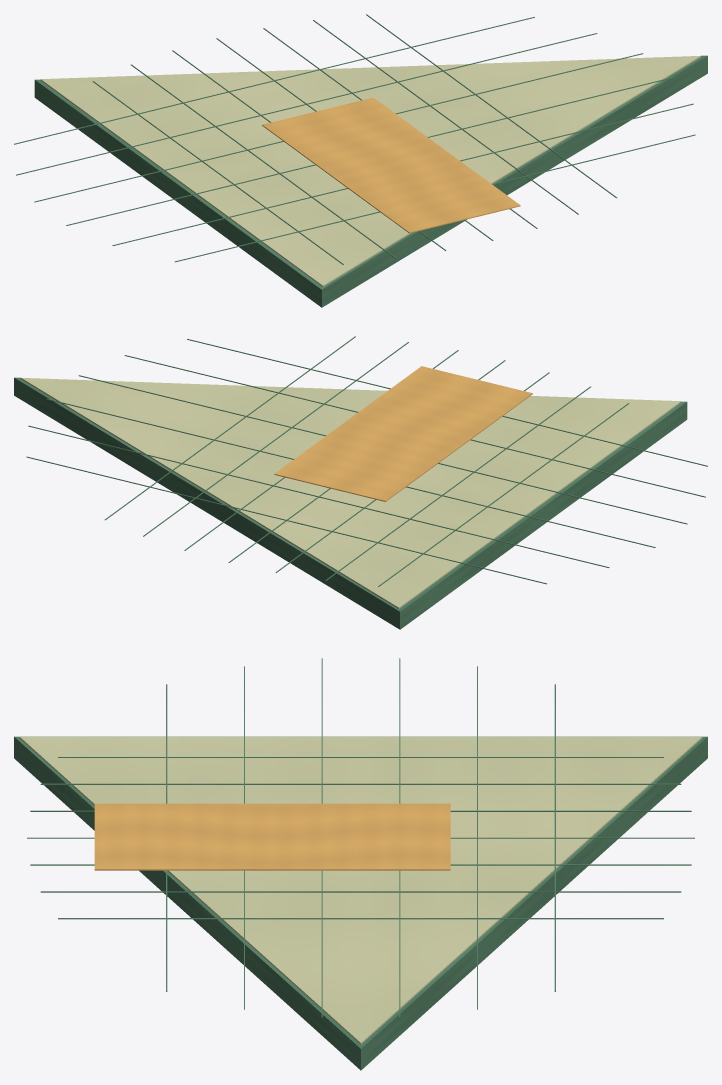
File: atlas100-s002-a07.lod2.glb
3 renders of one model, top to bottom at view 1: azimuth 30°, elevation 25°; view 2: azimuth 150°, elevation 25°; view 3: azimuth 270°, elevation 25°, orthographic. The views are drawn at different scales.
Parts seen in each view (by area): view 1: atlas100-s002-a07:part-001, atlas100-s002-a07:part-021, atlas100-s002-a07:part-000, atlas100-s002-a07:part-015, atlas100-s002-a07:part-014, atlas100-s002-a07:part-016, atlas100-s002-a07:part-017, atlas100-s002-a07:part-018, atlas100-s002-a07:part-019, atlas100-s002-a07:part-005, atlas100-s002-a07:part-009, atlas100-s002-a07:part-010 (+1 smaller); view 2: atlas100-s002-a07:part-001, atlas100-s002-a07:part-021, atlas100-s002-a07:part-000, atlas100-s002-a07:part-015, atlas100-s002-a07:part-014, atlas100-s002-a07:part-017, atlas100-s002-a07:part-016, atlas100-s002-a07:part-018, atlas100-s002-a07:part-019, atlas100-s002-a07:part-005, atlas100-s002-a07:part-009, atlas100-s002-a07:part-010 (+1 smaller); view 3: atlas100-s002-a07:part-001, atlas100-s002-a07:part-021, atlas100-s002-a07:part-000, atlas100-s002-a07:part-005, atlas100-s002-a07:part-009, atlas100-s002-a07:part-010.
Boxes of the visible parts, x1=… form: atlas100-s002-a07:part-001: x1=40, y1=56, x2=700, y2=286; atlas100-s002-a07:part-021: x1=262, y1=97, x2=520, y2=233; atlas100-s002-a07:part-000: x1=34, y1=55, x2=707, y2=307; atlas100-s002-a07:part-015: x1=16, y1=33, x2=597, y2=175; atlas100-s002-a07:part-014: x1=14, y1=17, x2=534, y2=144; atlas100-s002-a07:part-016: x1=34, y1=53, x2=643, y2=202; atlas100-s002-a07:part-017: x1=66, y1=76, x2=675, y2=225; atlas100-s002-a07:part-018: x1=112, y1=103, x2=693, y2=245; atlas100-s002-a07:part-019: x1=174, y1=134, x2=695, y2=262; atlas100-s002-a07:part-005: x1=131, y1=64, x2=396, y2=258; atlas100-s002-a07:part-009: x1=313, y1=20, x2=578, y2=214; atlas100-s002-a07:part-010: x1=366, y1=14, x2=617, y2=198; atlas100-s002-a07:part-001: x1=21, y1=378, x2=681, y2=608; atlas100-s002-a07:part-021: x1=274, y1=366, x2=532, y2=501; atlas100-s002-a07:part-000: x1=14, y1=377, x2=687, y2=629; atlas100-s002-a07:part-015: x1=28, y1=425, x2=609, y2=567; atlas100-s002-a07:part-014: x1=26, y1=456, x2=547, y2=584; atlas100-s002-a07:part-017: x1=78, y1=375, x2=687, y2=524; atlas100-s002-a07:part-016: x1=46, y1=398, x2=655, y2=547; atlas100-s002-a07:part-018: x1=124, y1=355, x2=705, y2=497; atlas100-s002-a07:part-019: x1=187, y1=339, x2=707, y2=466; atlas100-s002-a07:part-005: x1=325, y1=386, x2=590, y2=580; atlas100-s002-a07:part-009: x1=143, y1=342, x2=408, y2=536; atlas100-s002-a07:part-010: x1=104, y1=336, x2=355, y2=520; atlas100-s002-a07:part-001: x1=19, y1=737, x2=702, y2=1044; atlas100-s002-a07:part-021: x1=94, y1=803, x2=450, y2=870; atlas100-s002-a07:part-000: x1=14, y1=736, x2=707, y2=1070; atlas100-s002-a07:part-005: x1=40, y1=783, x2=681, y2=784; atlas100-s002-a07:part-009: x1=40, y1=891, x2=681, y2=892; atlas100-s002-a07:part-010: x1=58, y1=918, x2=663, y2=919.
Size of the model in its own units: 12.99 by 0.404 by 9.82.
Materials: 3 (3 with a texture image).
